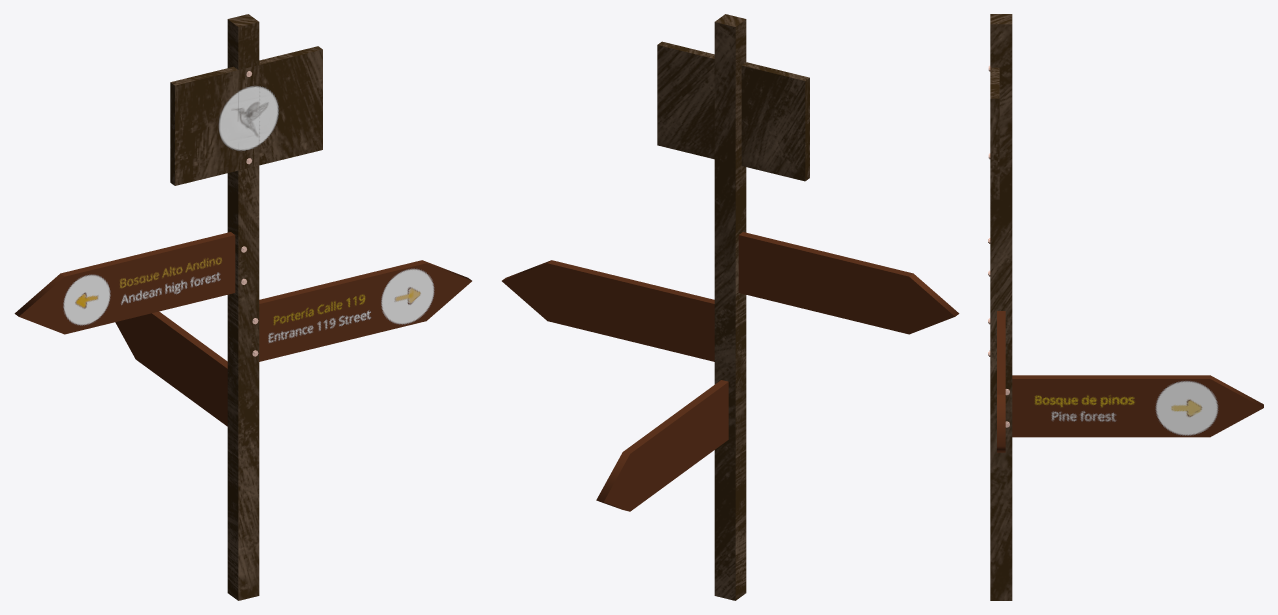
The model's file is letrero-indicaciones.glb.
3 renders of one model, left to right at view 1: azimuth 30°, elevation 25°; view 2: azimuth 150°, elevation 25°; view 3: azimuth 270°, elevation 25°, orthographic.
Size of the model in its own units: 13.81 by 16.69 by 7.23.
Materials: 6 (6 with a texture image).
